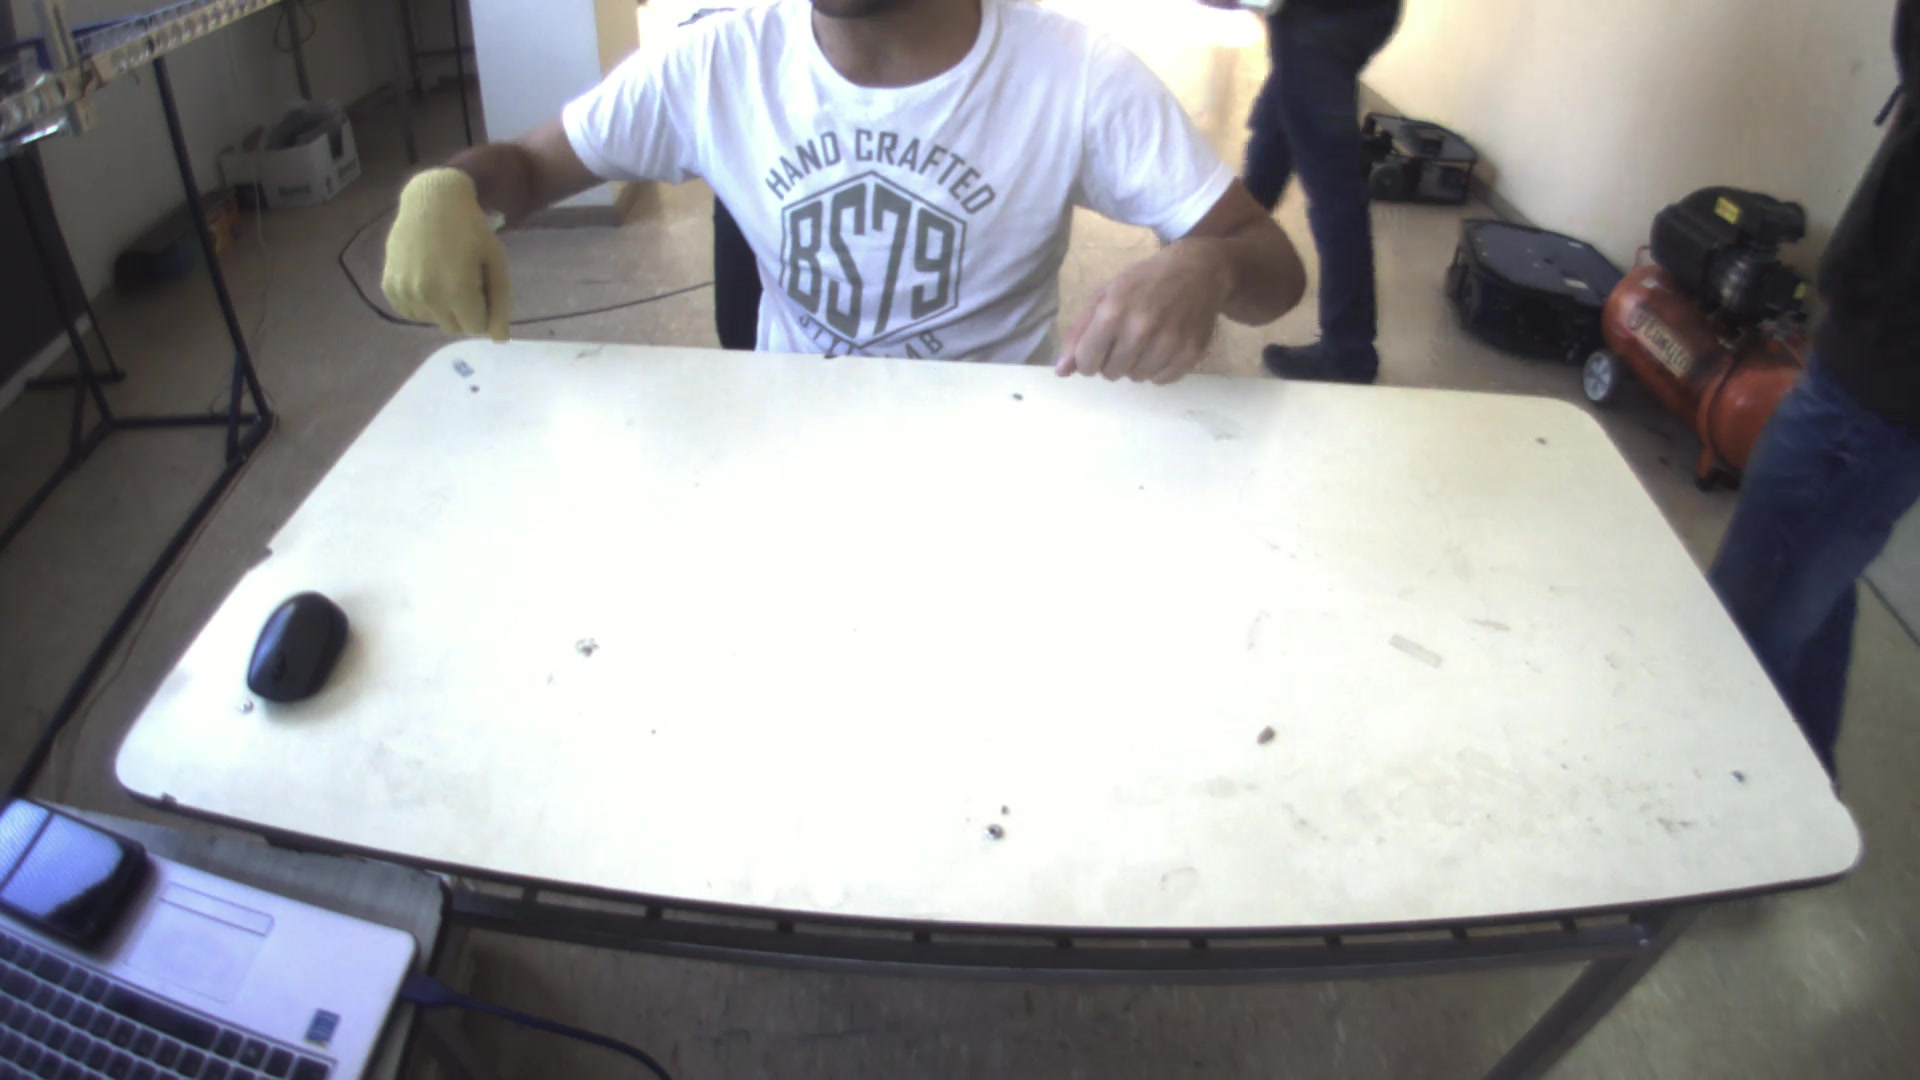hand: (1051, 235, 1236, 382), (368, 158, 516, 339)
